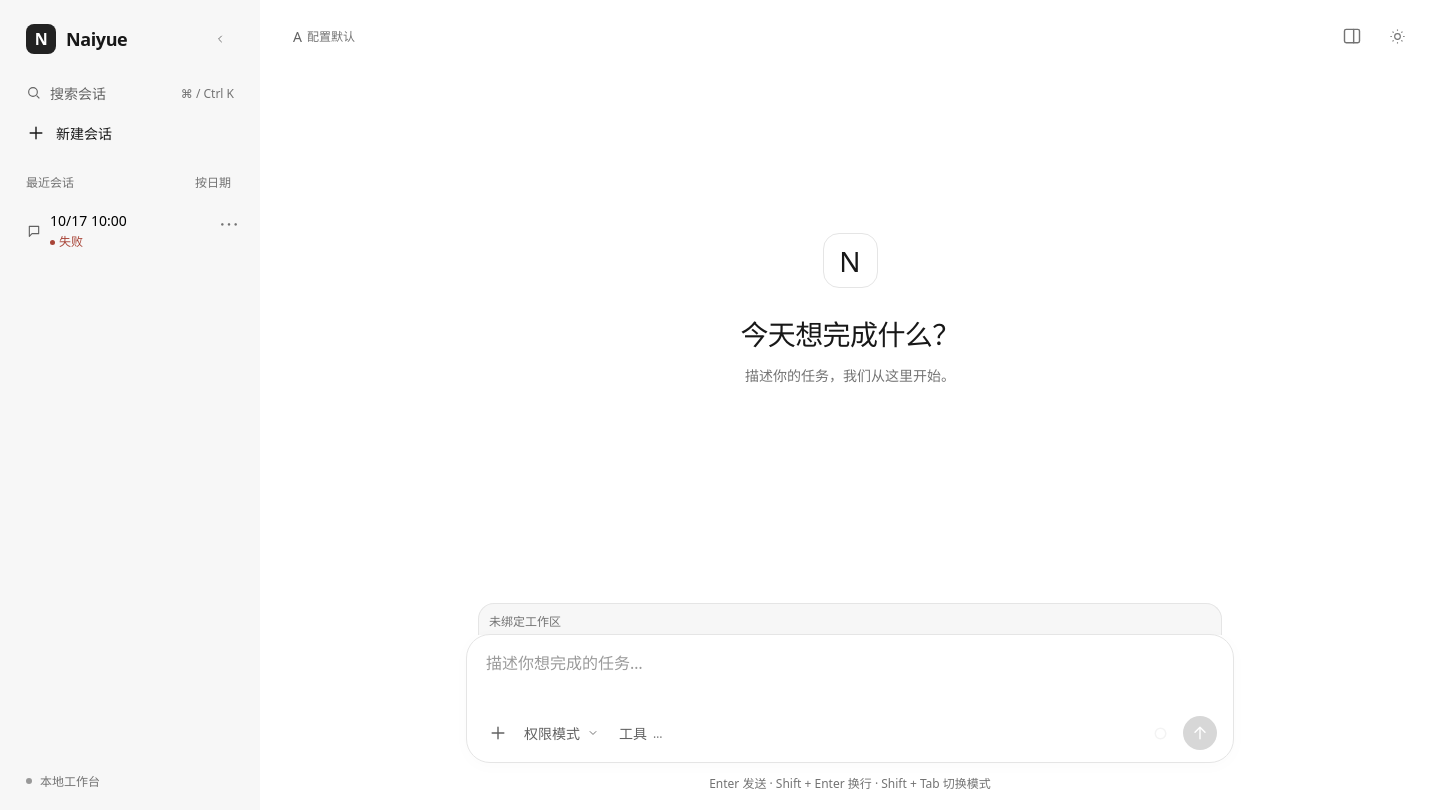
Test: automatically restores approval cards without approving or cancelling the batch
Expected: the element named "任务状态：失败" is shown, [50,233,83,251]
Click the button with aria-label " A" at (130, 231), box [14,202,246,260]
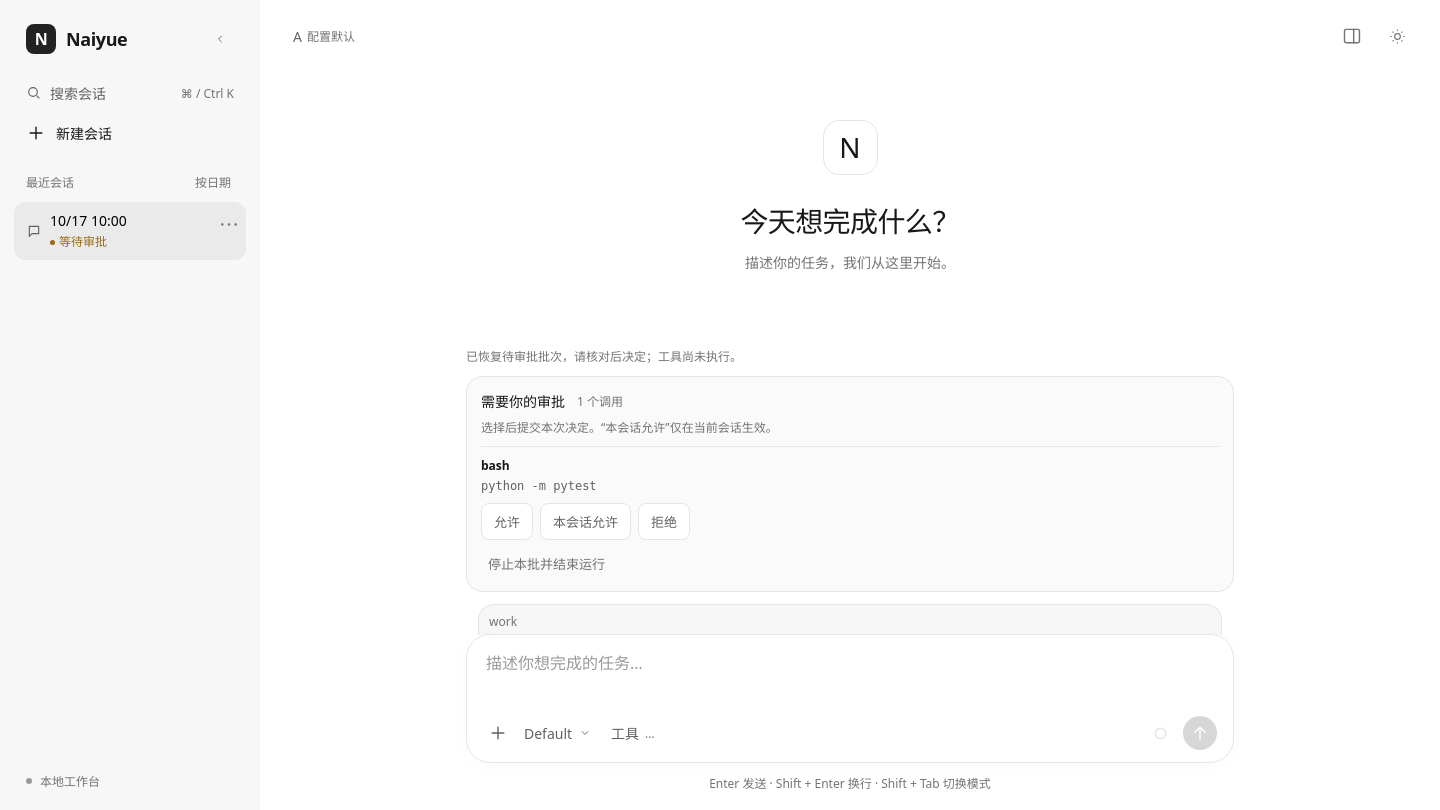
Result: the element named "工具审批" is shown at [466,376,1234,592]
